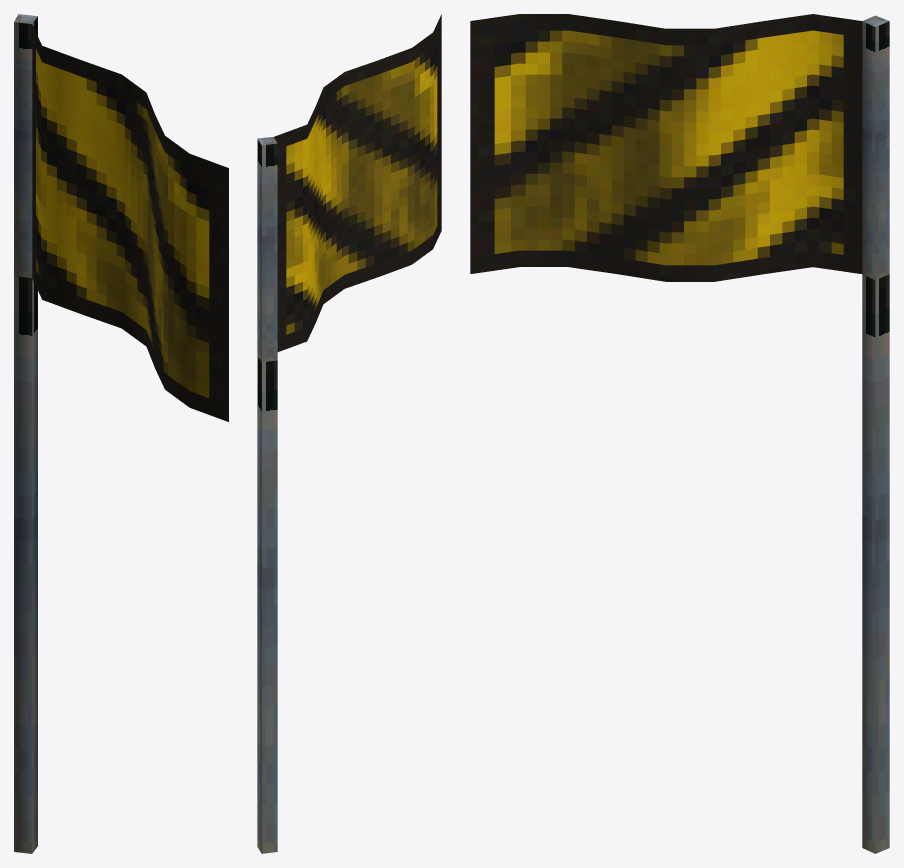
3 renders of one model, left to right at view 1: azimuth 30°, elevation 25°; view 2: azimuth 150°, elevation 25°; view 3: azimuth 270°, elevation 25°, orthographic. The views are drawn at different scales.
Visible parts, largest first — view 1: Joke_obj_028; view 2: Joke_obj_028; view 3: Joke_obj_028.
Part boxes in pixels (x1,y1,x2,y2): Joke_obj_028: (14,14,228,853); Joke_obj_028: (257,14,441,853); Joke_obj_028: (470,14,889,853).
Bounding box in the file's own units: 0.0566 × 1.49 × 0.6836.
Materials: 2 (2 with a texture image).
